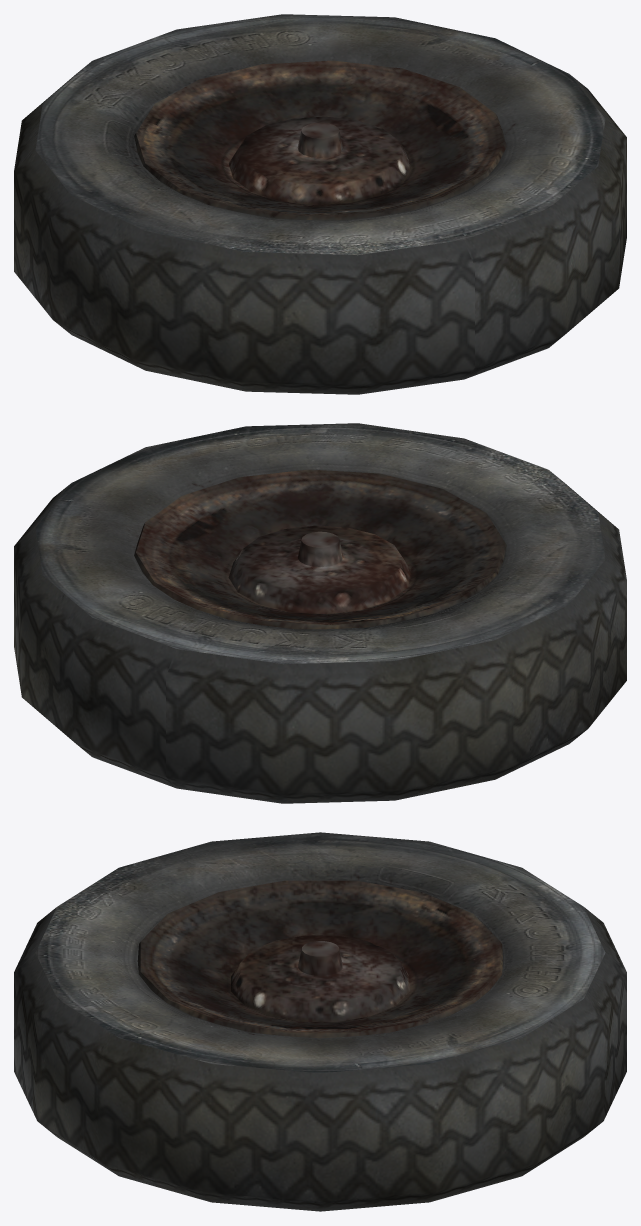
File: weel.FBX
The picture shows the model from 3 angles, top to bottom: view 1: azimuth 30°, elevation 25°; view 2: azimuth 150°, elevation 25°; view 3: azimuth 270°, elevation 25°; orthographic projection.
Parts seen in each view (by area): view 1: wheel; view 2: wheel; view 3: wheel.
Part boxes in pixels (x1,y1,x2,y2): wheel: [14, 14, 626, 394]; wheel: [14, 423, 626, 803]; wheel: [14, 832, 626, 1211].
Size of the model in its own units: 0.5996 by 0.1536 by 0.5998.
